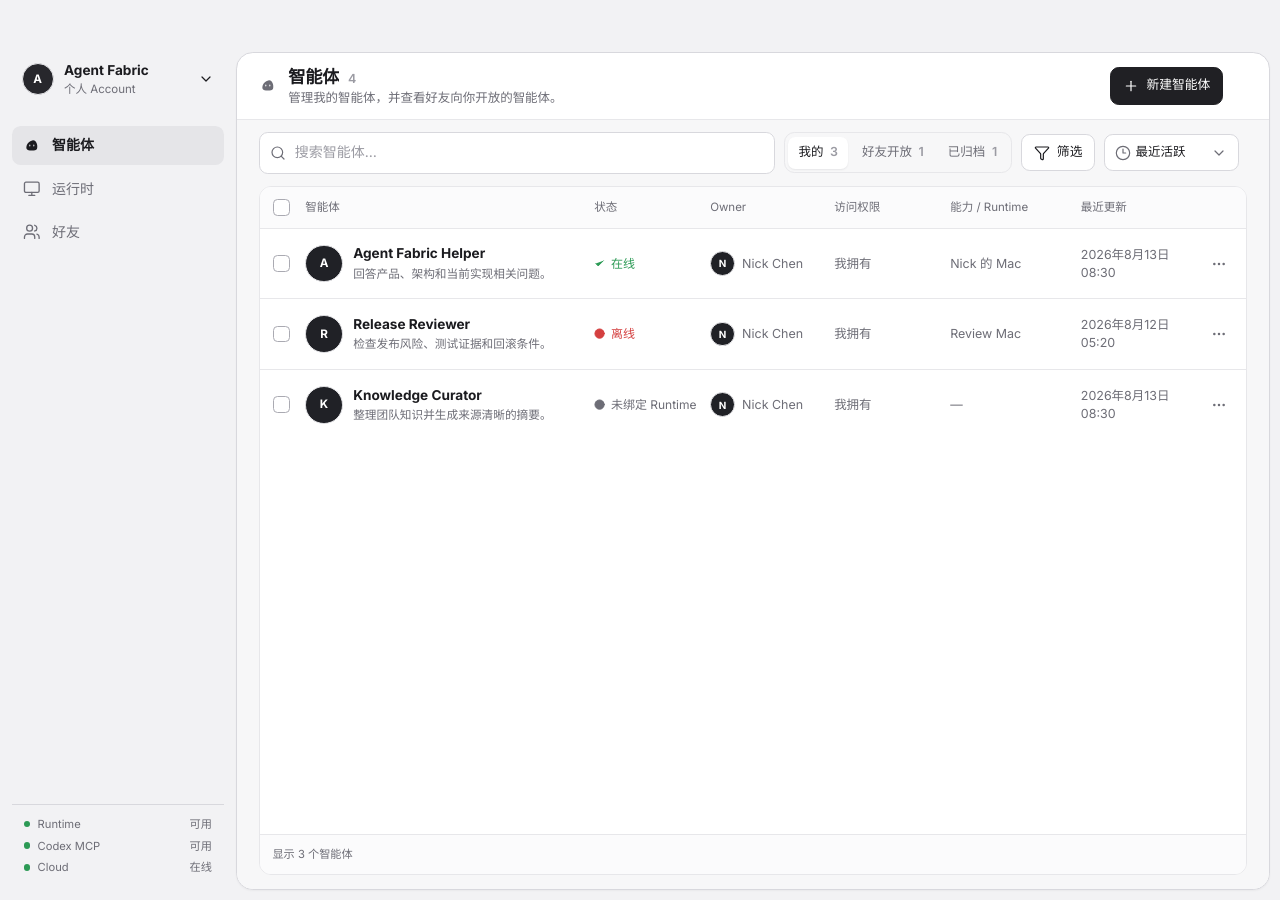
Test: Account-scoped product Renderer › uses mature primitives and a full-height collection frame for the catalog
This screenshot has width=1280, height=900.
Check: the text "显示 3 个智能体" is shown, box [272,846,353,863]
Click the 2nd checkbox at (282, 264), box [273,255,290,272]
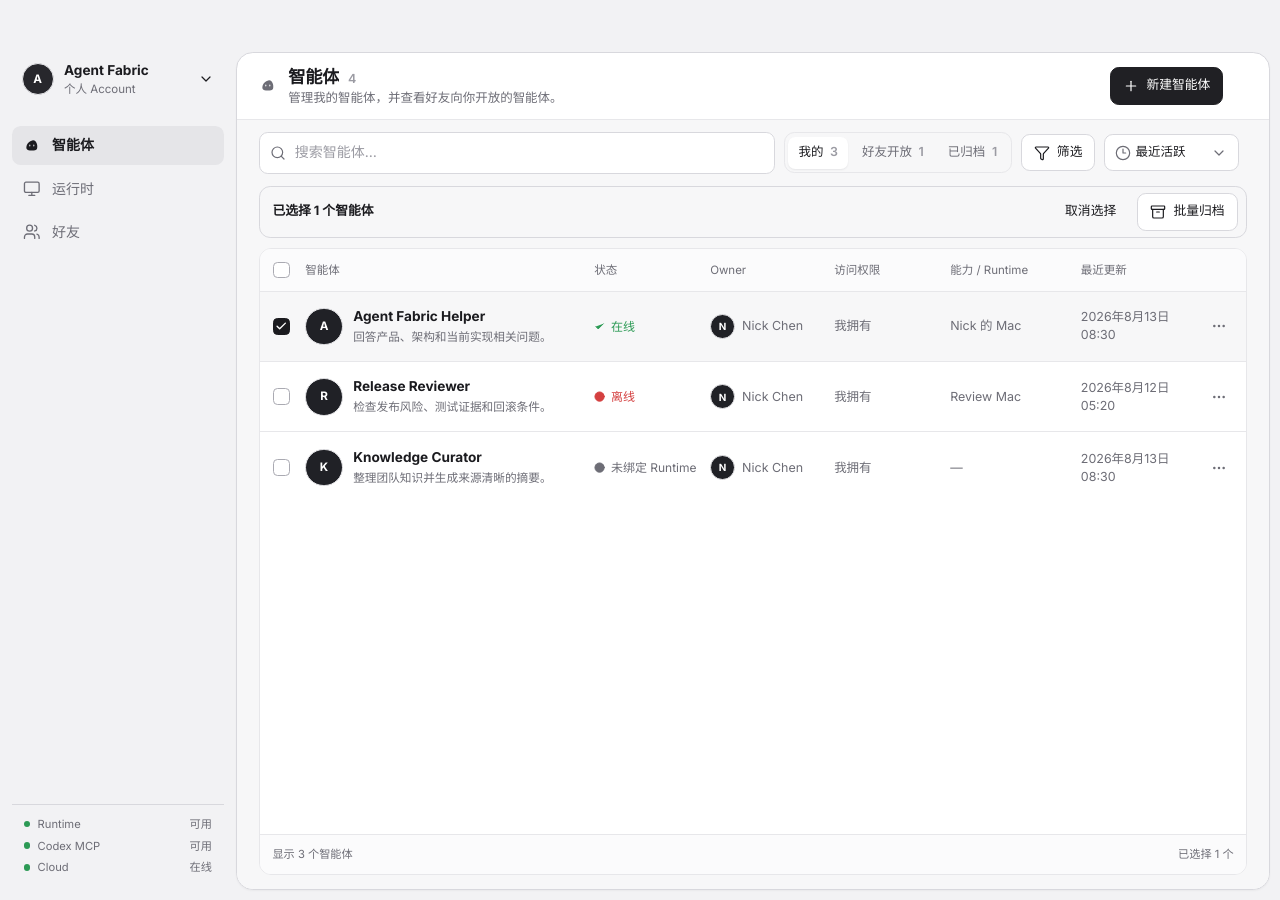
Check: the text "已选择 1 个智能体" is shown, box [272,202,374,221]
Check: the button "批量归档" is shown, box [1137,193,1238,230]
